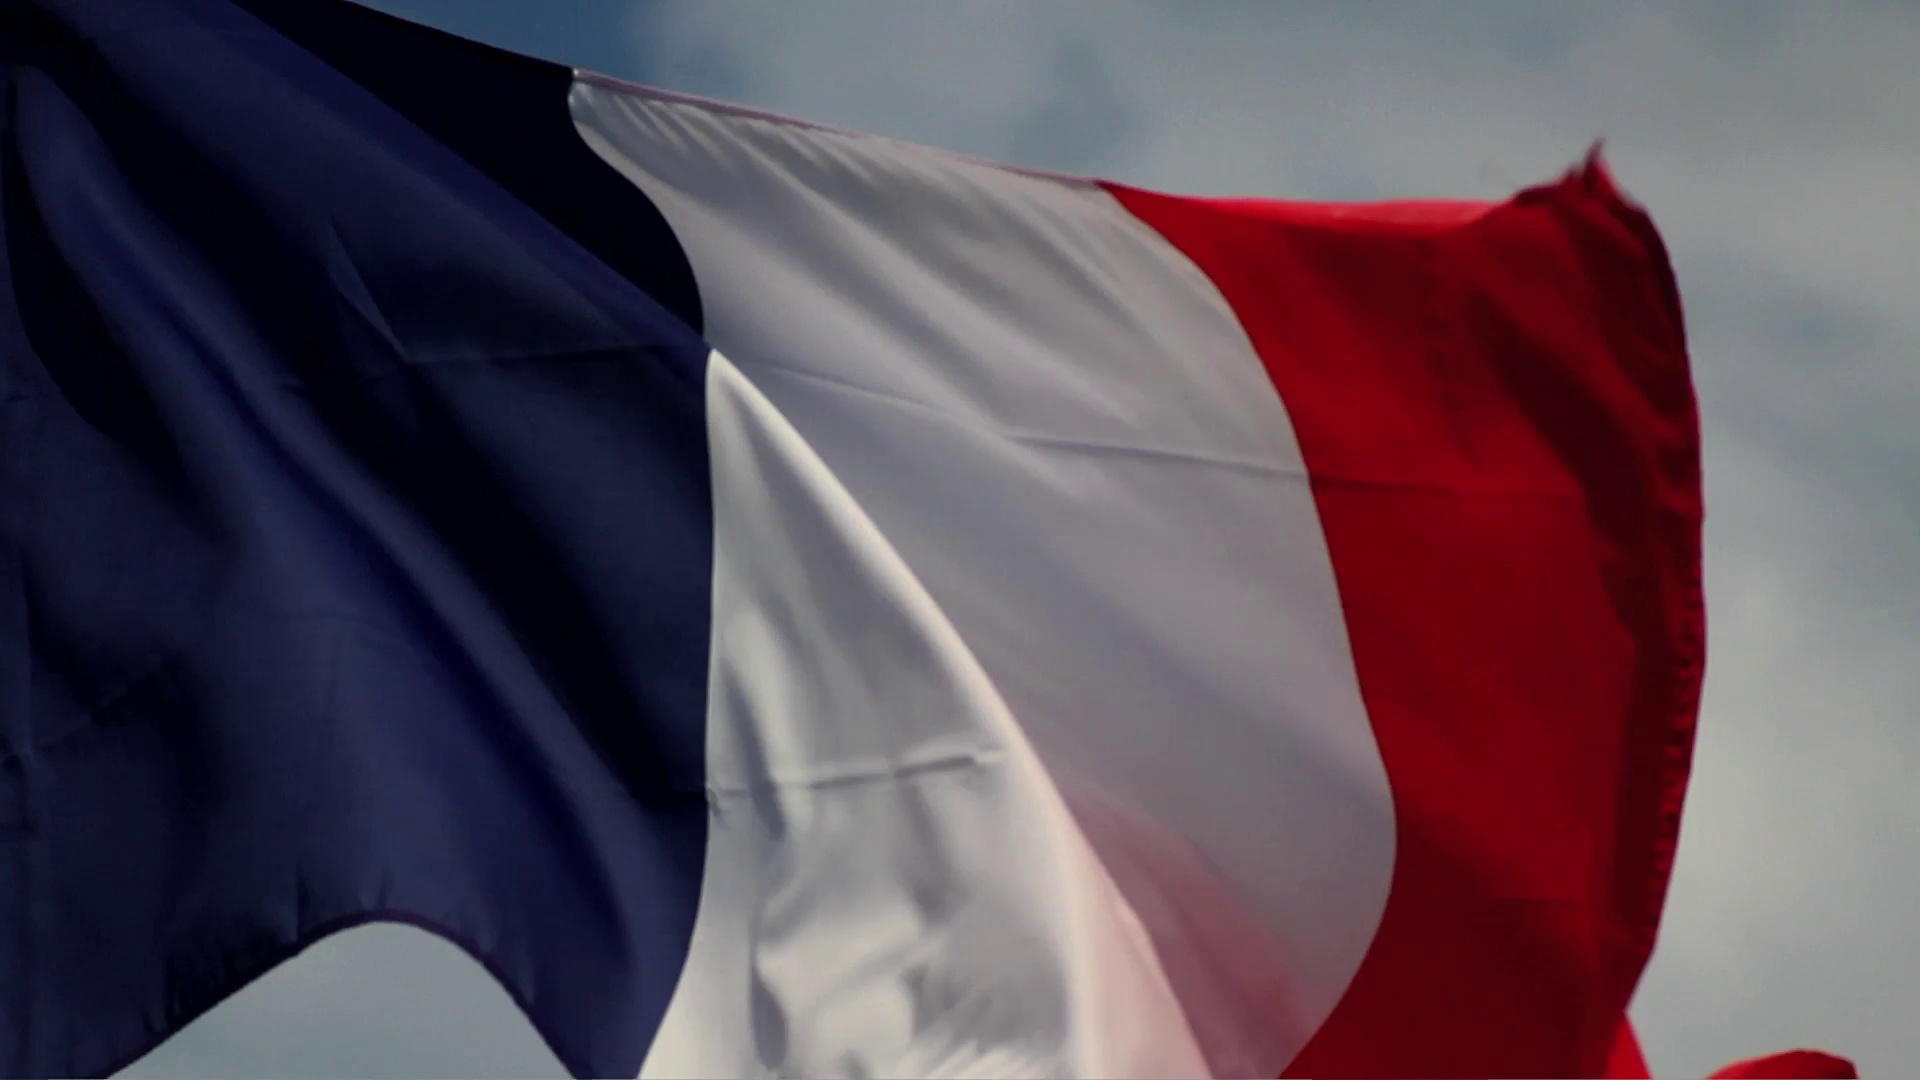French Flag: (1, 1, 1866, 1080)
